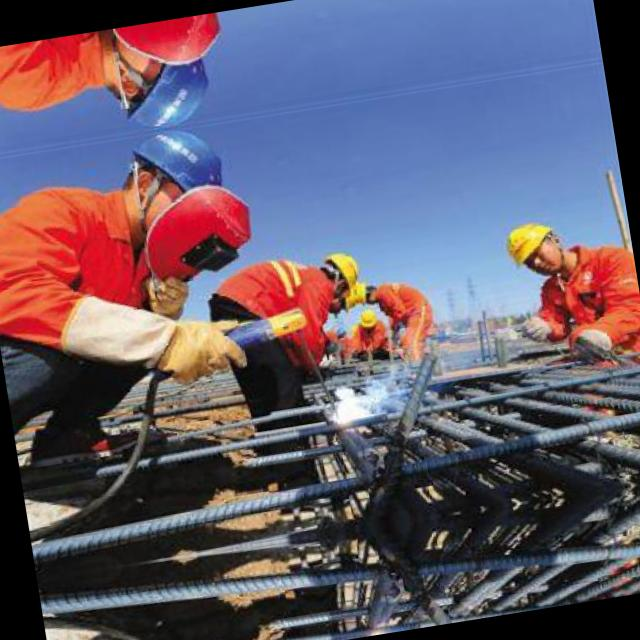helmet: (93, 18, 227, 134), (109, 122, 243, 237), (500, 212, 571, 280), (309, 248, 362, 292), (349, 276, 381, 306), (352, 303, 380, 331)
